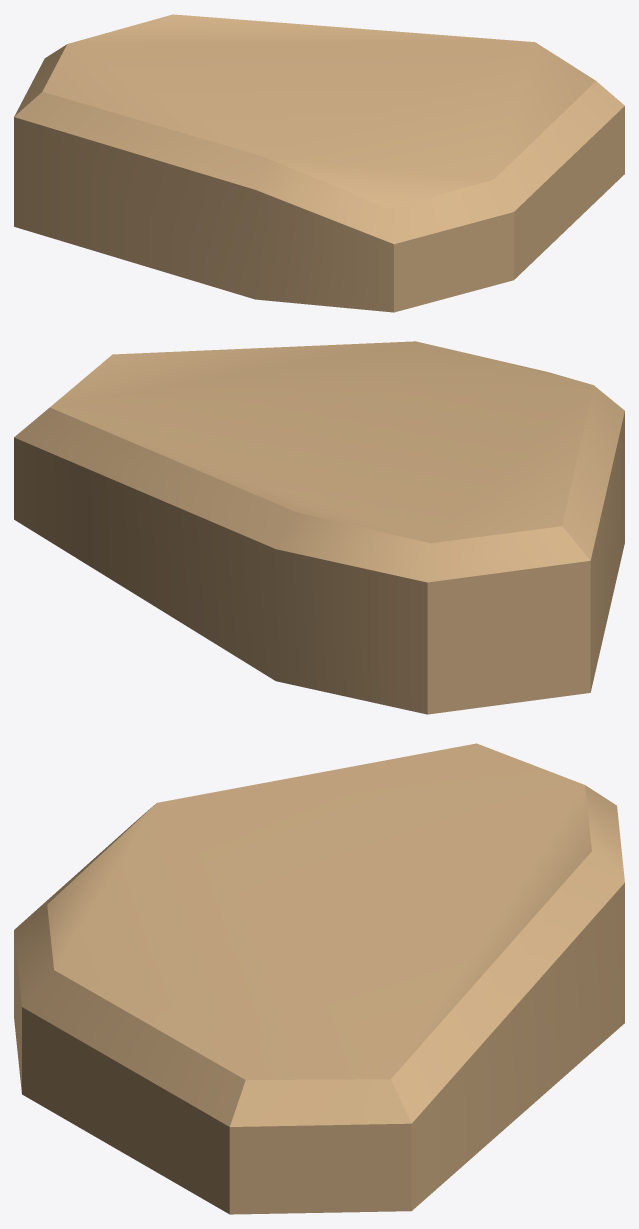
Rendered from 08 Stone.FBX.
3 renders of one model, top to bottom at view 1: azimuth 30°, elevation 25°; view 2: azimuth 150°, elevation 25°; view 3: azimuth 270°, elevation 25°, orthographic. The views are drawn at different scales.
Parts seen in each view (by area): view 1: Cylinder076; view 2: Cylinder076; view 3: Cylinder076.
Boxes of the visible parts, box(x1,y1,x2,y2) form: Cylinder076: box(14, 14, 624, 312); Cylinder076: box(14, 341, 624, 714); Cylinder076: box(14, 743, 624, 1214).
Bounding box in the file's own units: 444 × 109 × 358.
